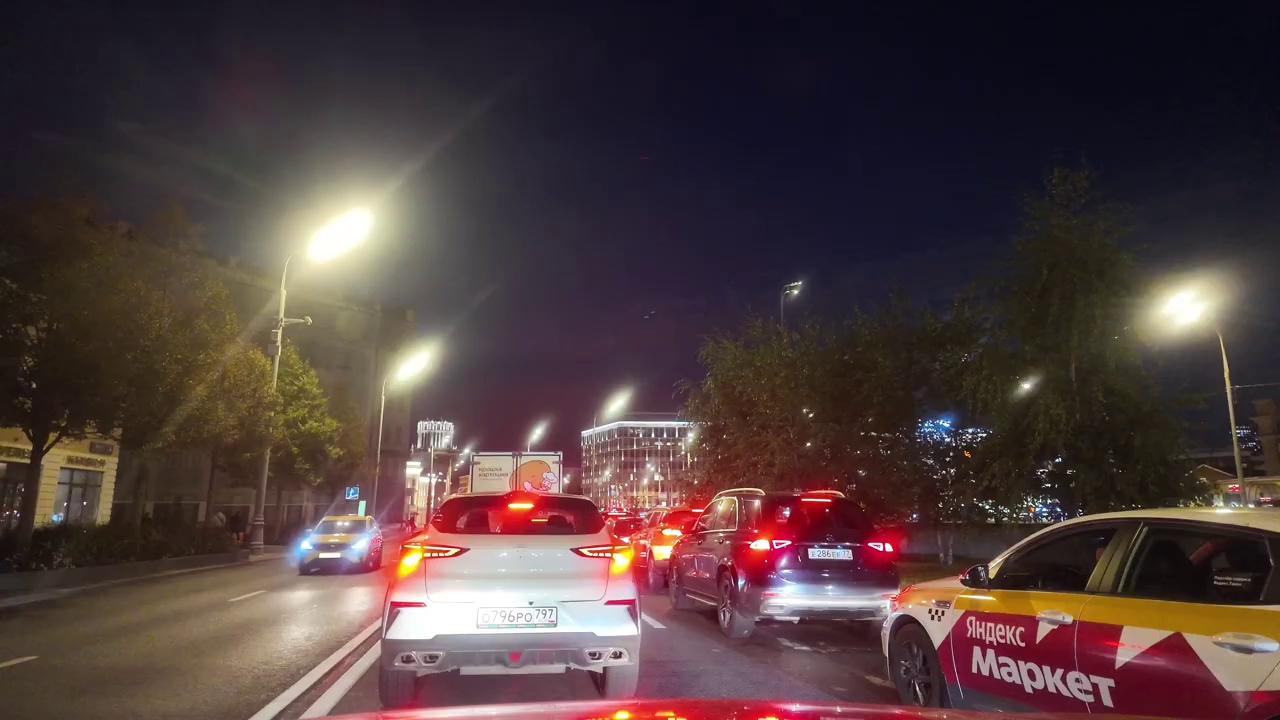acesa: (304, 206, 376, 269), (1150, 280, 1221, 340), (382, 339, 439, 393), (597, 384, 634, 426)
